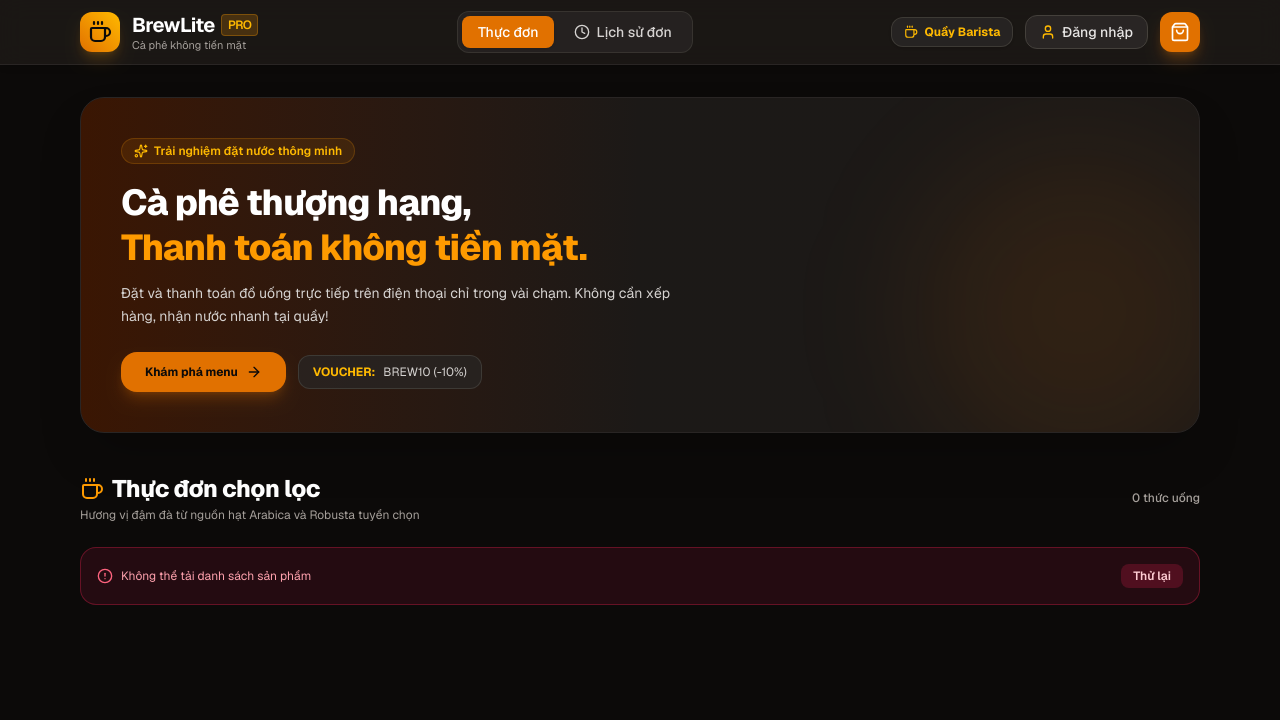
Test case: trang Menu (Task 3) › báo lỗi (không hiện trạng thái trống) và cho thử lại
Expected: the text "Không thể tải danh sách sản phẩm" is shown, [121, 568, 311, 584]
Click the button "Thử lại" at point(1152, 576), box [1121, 564, 1183, 588]
(page scrolled)
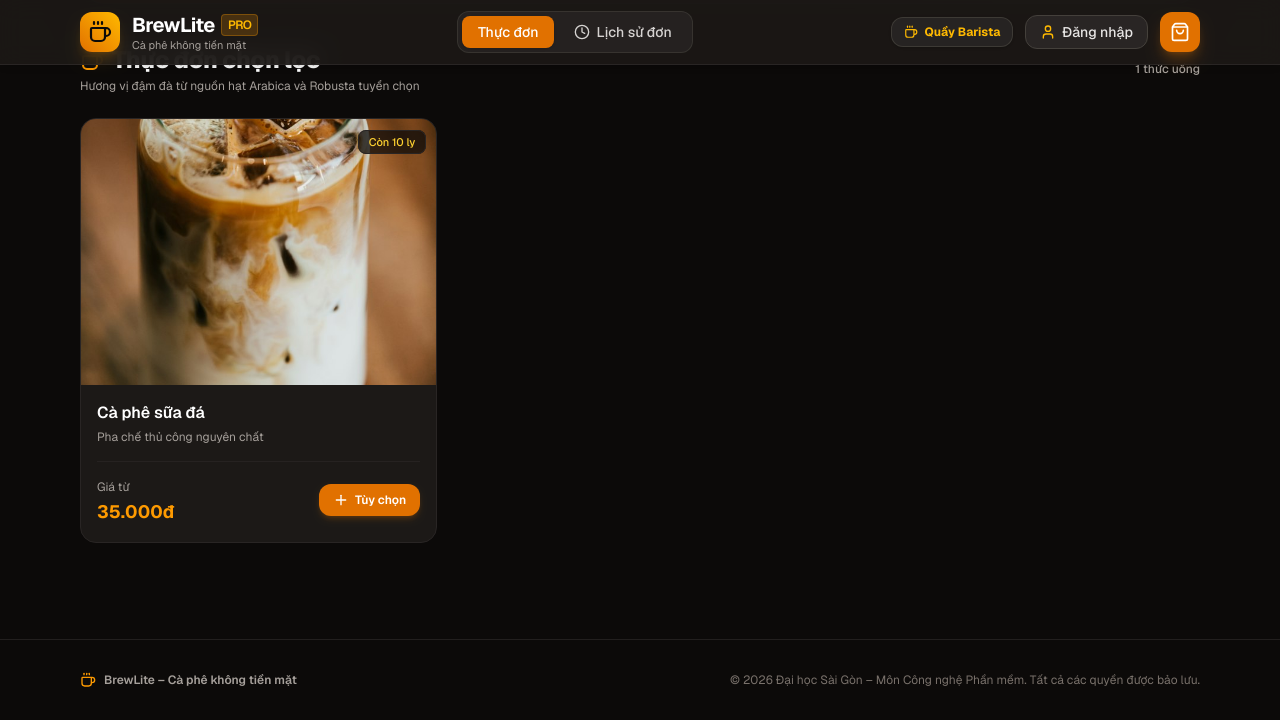
Result: the heading "Cà phê sữa đá" is shown at [97, 402, 205, 423]
Result: the text "Không thể tải danh sách sản phẩm" is gone
